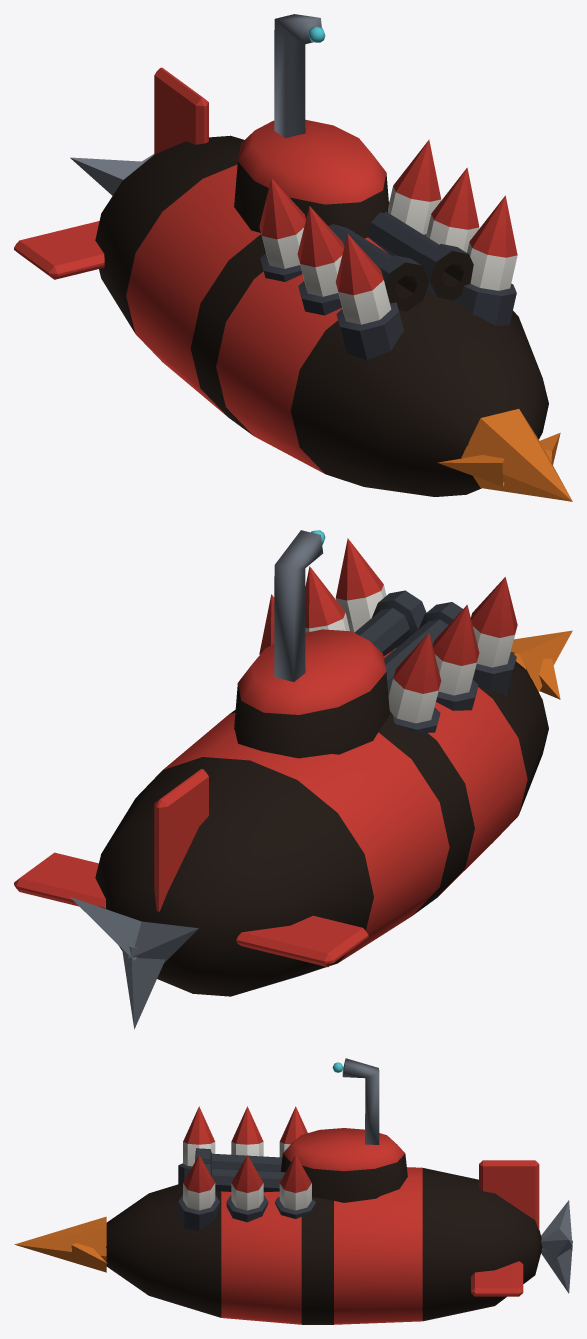
3 views of the same model, one above another, from view 1: azimuth 30°, elevation 25°; view 2: azimuth 150°, elevation 25°; view 3: azimuth 270°, elevation 25° (orthographic). The views are drawn at different scales.
Parts seen in each view (by area): view 1: submarino_0_base, submarino_1_torreta; view 2: submarino_0_base, submarino_1_torreta; view 3: submarino_0_base, submarino_1_torreta.
Part boxes in pixels (<box>): submarino_0_base: <box>14,67,572,501</box>; submarino_1_torreta: <box>234,14,473,311</box>; submarino_0_base: <box>14,538,572,1029</box>; submarino_1_torreta: <box>234,530,462,758</box>; submarino_0_base: <box>14,1106,572,1324</box>; submarino_1_torreta: <box>195,1058,407,1202</box>.
Bounding box in the file's own units: 0.58 × 0.6953 × 1.39.
